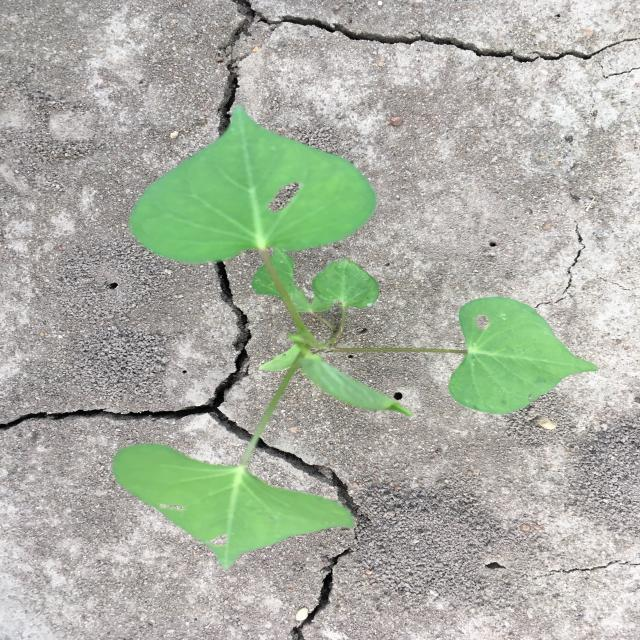MorningGlory: (112, 104, 600, 570)
